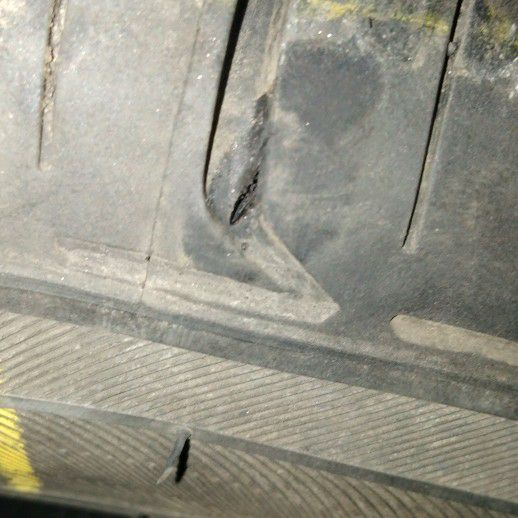cut: (229, 171, 261, 231), (172, 434, 194, 493)
